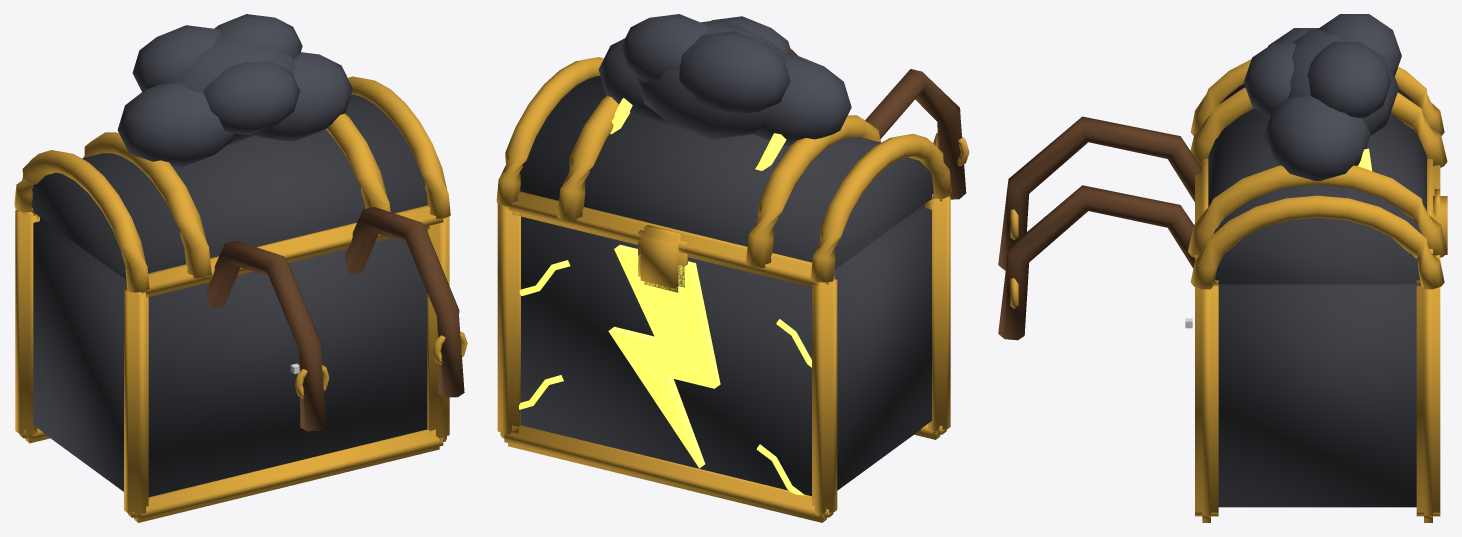
The model's file is Canasta24.fbx.
3 views of the same model, side by side, from view 1: azimuth 30°, elevation 25°; view 2: azimuth 150°, elevation 25°; view 3: azimuth 270°, elevation 25° (orthographic). The views are drawn at different scales.
Visible parts, largest first — view 1: Canasta24_PiedraTormenta, Canasta24_Oro, Canasta24_Nube, Canasta24_Cuero; view 2: Canasta24_PiedraTormenta, Canasta24_Oro, Canasta24_Nube, Canasta24_Rayo, Canasta24_Cuero; view 3: Canasta24_PiedraTormenta, Canasta24_Oro, Canasta24_Nube, Canasta24_Cuero.
Part boxes in pixels (x1,y1,x2,y2): Canasta24_PiedraTormenta: (31,94,427,497); Canasta24_Oro: (14,76,467,522); Canasta24_Nube: (117,14,352,167); Canasta24_Cuero: (206,207,464,431); Canasta24_PiedraTormenta: (519,76,933,496); Canasta24_Oro: (496,57,969,522); Canasta24_Nube: (598,14,851,146); Canasta24_Rayo: (519,98,811,495); Canasta24_Cuero: (790,48,966,199); Canasta24_PiedraTormenta: (1208,84,1426,507); Canasta24_Oro: (1010,59,1447,522); Canasta24_Nube: (1244,14,1401,180); Canasta24_Cuero: (998,116,1201,340).
Bounding box in the file's own units: 2.56 × 3.11 × 3.04.
